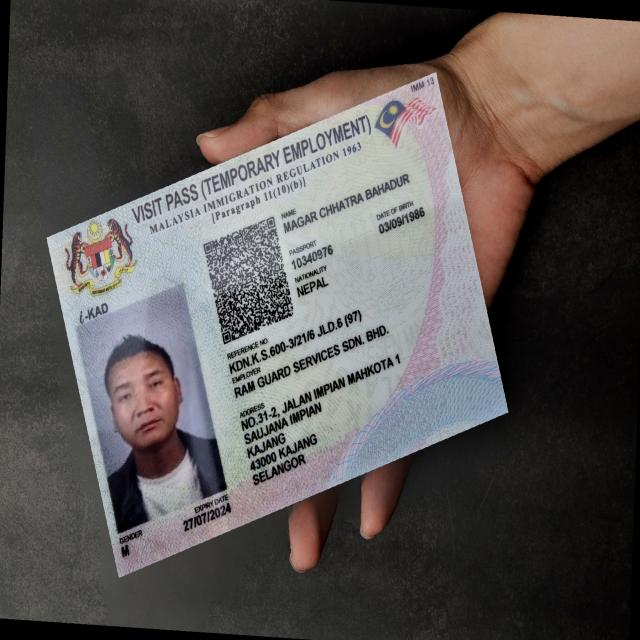ikad-temp: (46, 69, 509, 578)
